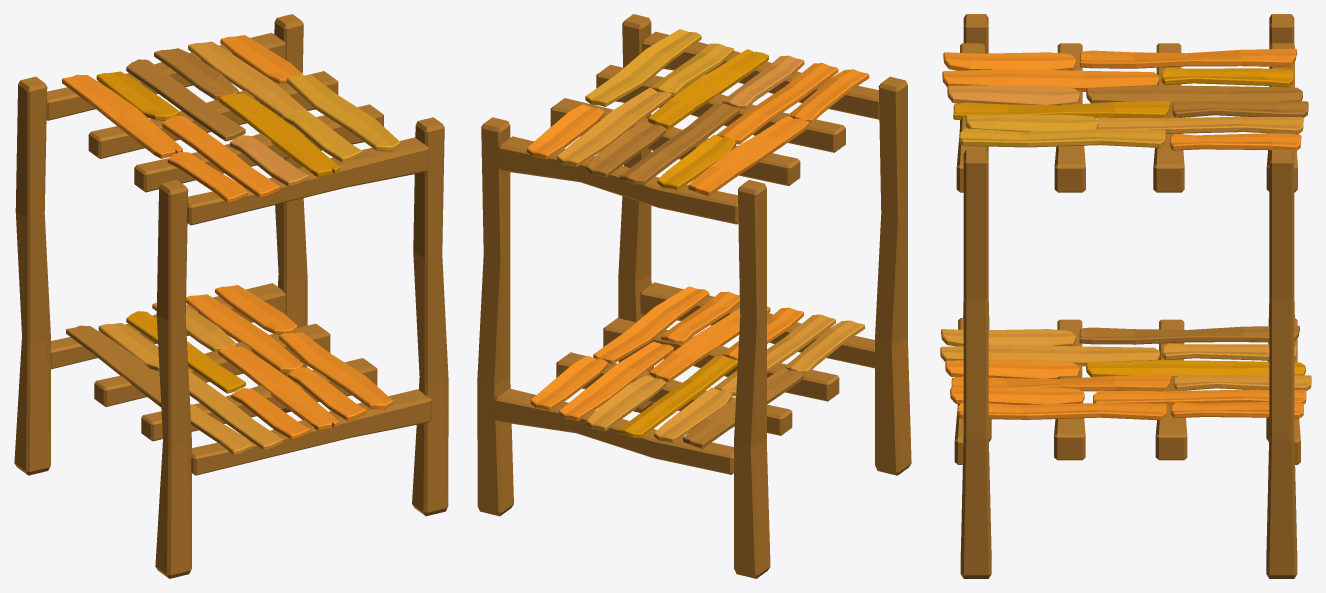
File: Base_2_axel_village_.fbx
3 renders of one model, left to right at view 1: azimuth 30°, elevation 25°; view 2: azimuth 150°, elevation 25°; view 3: azimuth 270°, elevation 25°, orthographic. The views are drawn at different scales.
Parts seen in each view (by area): view 1: polySurface9.001, polySurface26, polySurface5.001, polySurface2, polySurface8, polySurface24, polySurface22, polySurface1, polySurface27, polySurface15.001, polySurface6.001, polySurface13.001 (+24 smaller); view 2: polySurface9.001, polySurface26, polySurface24, polySurface3, polySurface4, polySurface5.001, polySurface1, polySurface22, polySurface15.001, polySurface13.001, polySurface21, polySurface6.001 (+24 smaller); view 3: polySurface5.001, polySurface24, polySurface1, polySurface18, polySurface15.001, polySurface21, polySurface13.001, polySurface10.001, polySurface12.001, polySurface6.001, polySurface22, polySurface17.001 (+23 smaller).
Boxes of the visible parts, x1,y1,x2,y2 form: polySurface9.001: (155,180,191,578); polySurface26: (14,76,50,475); polySurface5.001: (412,117,448,516); polySurface2: (187,137,428,225); polySurface8: (191,389,431,475); polySurface24: (274,14,307,412); polySurface22: (219,93,339,177); polySurface1: (62,74,182,158); polySurface27: (218,346,338,430); polySurface15.001: (286,74,400,151); polySurface6.001: (279,332,392,409); polySurface13.001: (188,41,306,119); polySurface9.001: (875,76,911,475); polySurface26: (734,180,770,578); polySurface24: (477,117,513,516); polySurface3: (498,136,738,224); polySurface4: (495,388,734,474); polySurface5.001: (618,14,653,412); polySurface1: (688,115,808,196); polySurface22: (648,49,768,129); polySurface15.001: (585,29,701,106); polySurface13.001: (557,87,671,166); polySurface21: (619,103,739,185); polySurface6.001: (593,286,709,364); polySurface5.001: (960,149,991,578); polySurface24: (1266,149,1297,578); polySurface1: (1079,48,1296,68); polySurface18: (942,69,1158,91); polySurface15.001: (959,128,1165,147); polySurface21: (1086,85,1302,103); polySurface13.001: (1096,116,1303,134); polySurface10.001: (940,345,1159,366); polySurface12.001: (1079,325,1299,344); polySurface6.001: (957,402,1166,420); polySurface22: (953,101,1170,120); polySurface17.001: (1086,360,1305,376).
Size of the model in its own units: 590 by 772 by 620.
